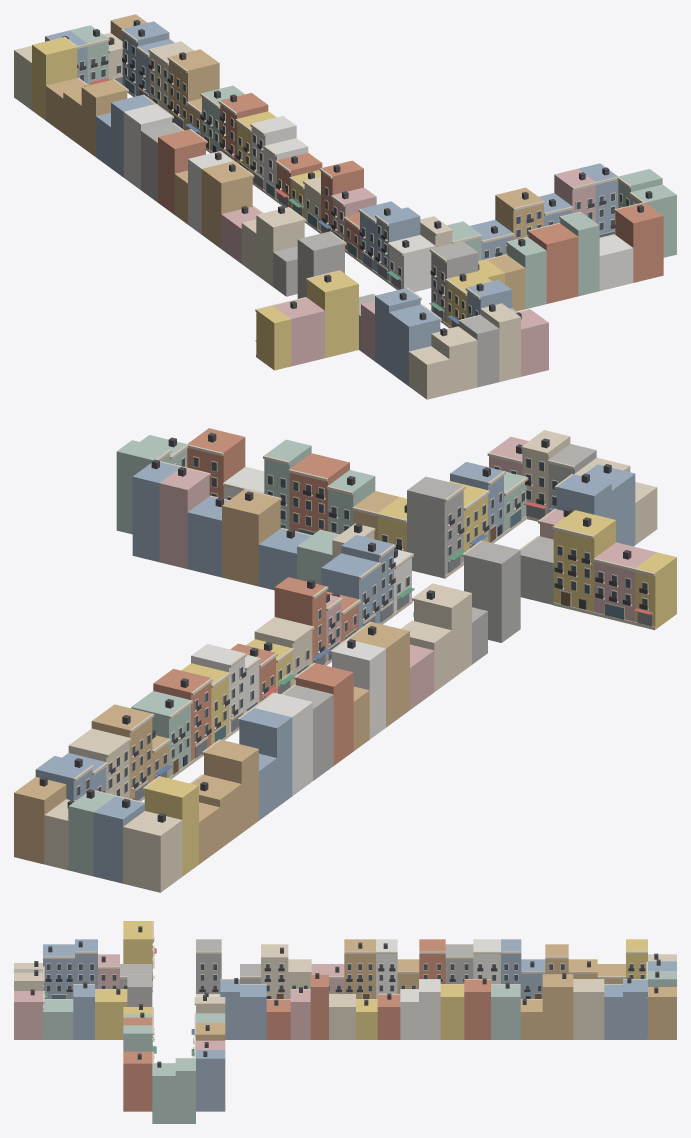
Rendered from SM_Manzanas_Juarez_Hidalgo.fbx.
3 renders of one model, top to bottom at view 1: azimuth 30°, elevation 25°; view 2: azimuth 150°, elevation 25°; view 3: azimuth 270°, elevation 25°, orthographic. The views are drawn at different scales.
Parts seen in each view (by area): view 1: SM_Manzanas_Juarez_Hidalgo; view 2: SM_Manzanas_Juarez_Hidalgo; view 3: SM_Manzanas_Juarez_Hidalgo.
Part boxes in pixels (left/top/right/bottom): SM_Manzanas_Juarez_Hidalgo: left=14, top=14, right=676, bottom=399; SM_Manzanas_Juarez_Hidalgo: left=14, top=428, right=676, bottom=892; SM_Manzanas_Juarez_Hidalgo: left=14, top=921, right=676, bottom=1123.
Size of the model in its own units: 107 by 17.3 by 182.
